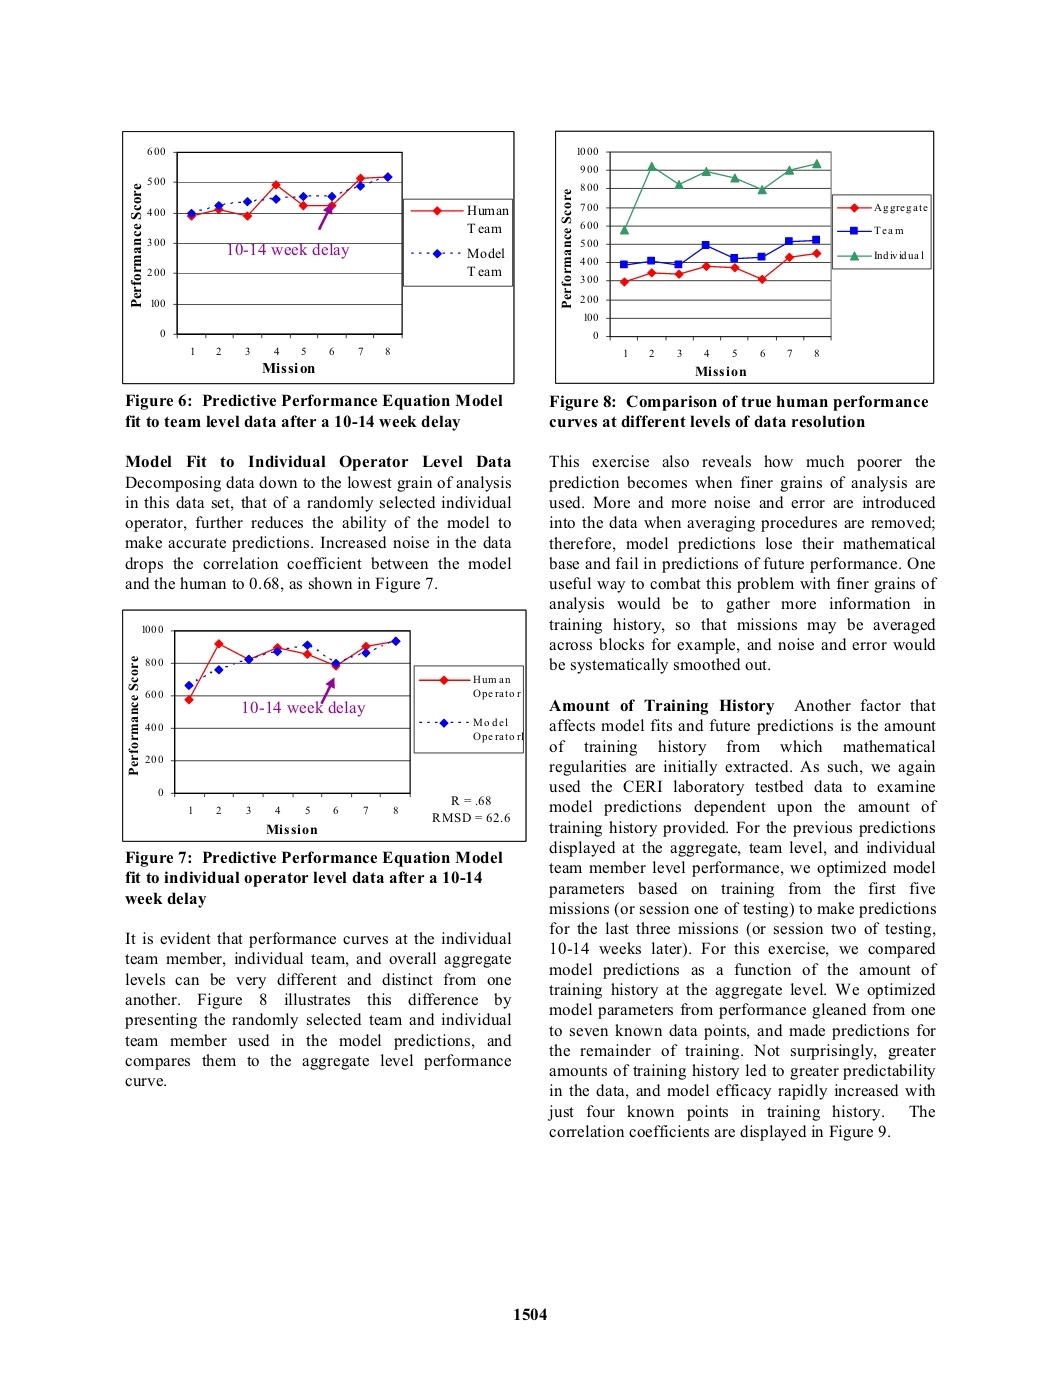figure: (121, 130, 514, 384), (555, 129, 934, 384), (121, 608, 526, 843)
